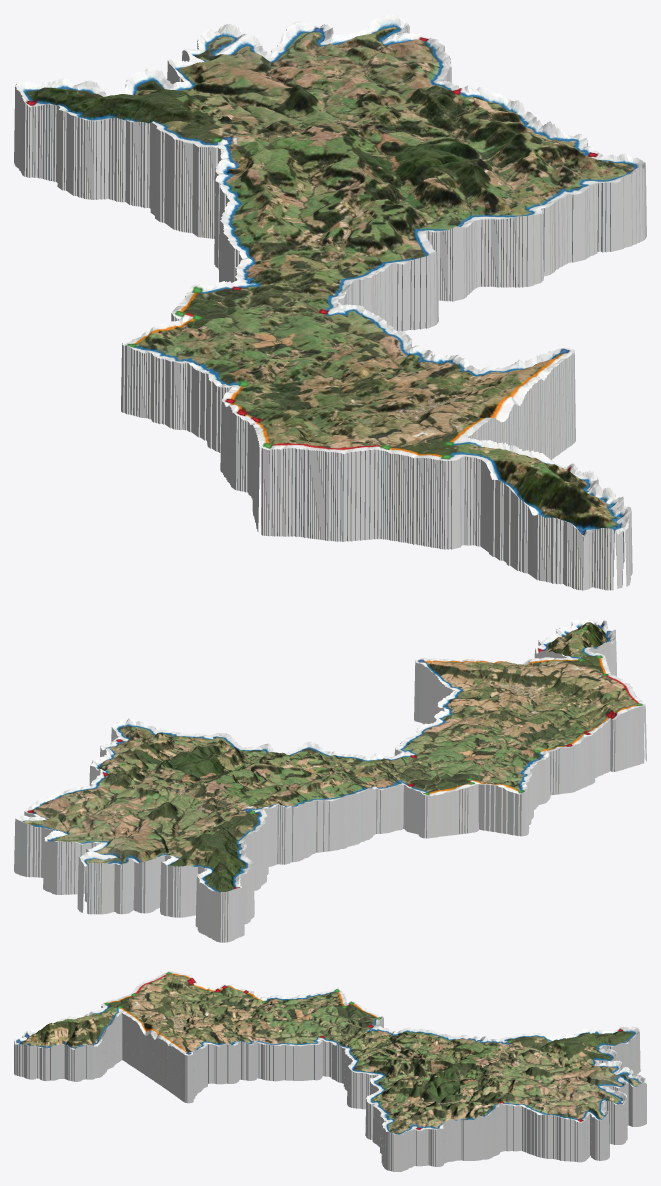
3 renders of one model, top to bottom at view 1: azimuth 30°, elevation 25°; view 2: azimuth 150°, elevation 25°; view 3: azimuth 270°, elevation 25°, orthographic. The views are drawn at different scales.
Size of the model in its own units: 0.9999 by 0.1515 by 1.73.
Materials: 1 (1 with a texture image).
